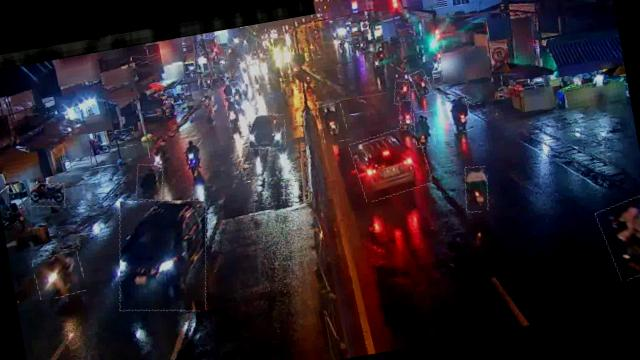Bike: (597, 196, 640, 282), (32, 249, 87, 300), (462, 165, 492, 213), (132, 162, 166, 202), (318, 102, 349, 144), (28, 179, 68, 210), (446, 94, 473, 132), (411, 109, 438, 147), (180, 137, 204, 177), (104, 127, 138, 150), (147, 138, 168, 174), (411, 68, 432, 98), (397, 98, 415, 130), (392, 80, 412, 105), (224, 96, 240, 127)
Car: (106, 190, 219, 321), (350, 125, 432, 202), (244, 110, 288, 151)
